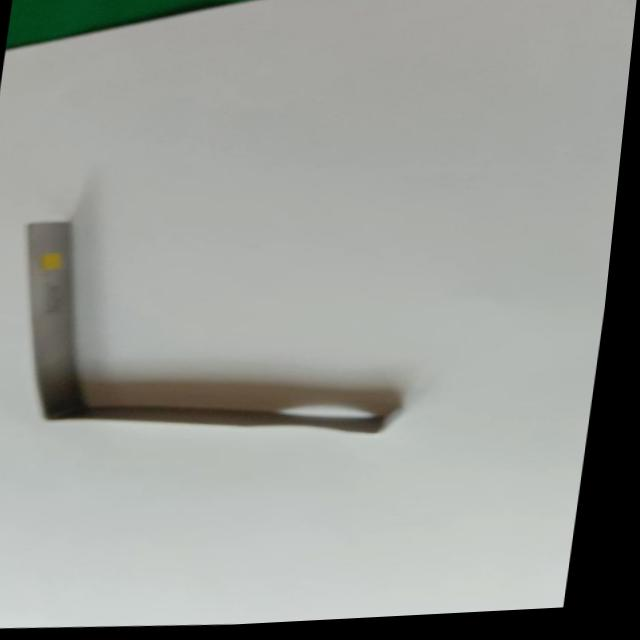AustinRetractor: (0, 197, 460, 459)
